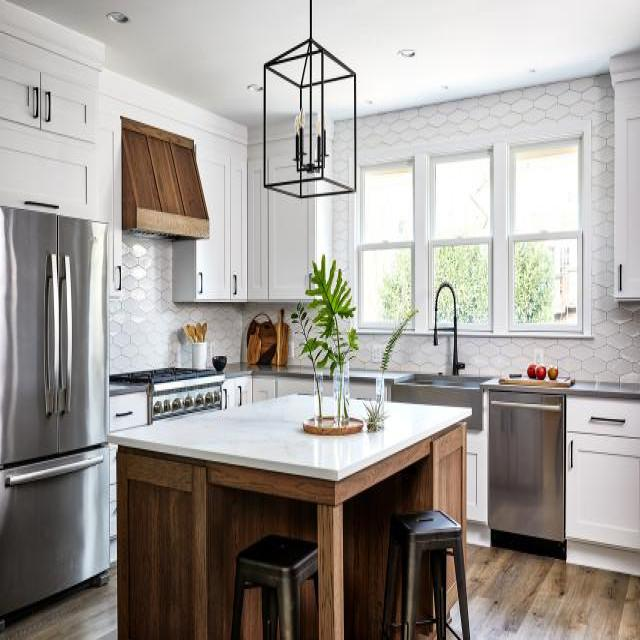dishwasher: (484, 386, 568, 562)
